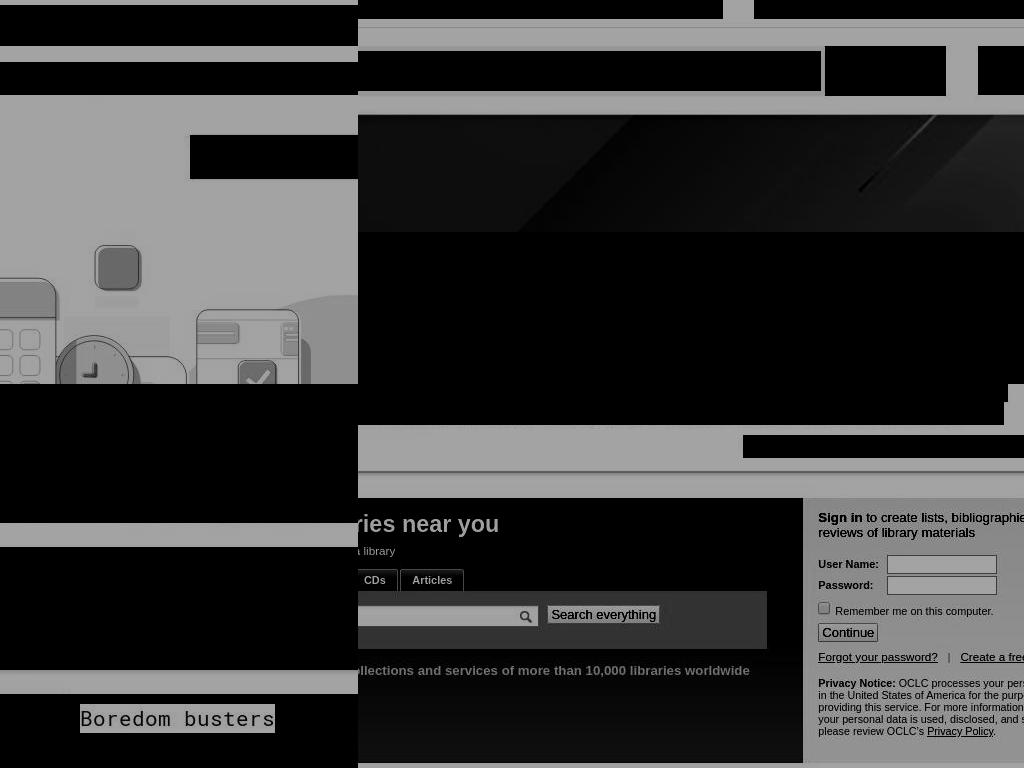button: (0, 694, 358, 768), (190, 135, 358, 179), (825, 46, 946, 96), (978, 46, 1024, 95), (913, 0, 1024, 19), (754, 0, 844, 19), (400, 570, 465, 591), (843, 0, 914, 19), (358, 570, 398, 591)
field: (358, 51, 821, 91), (358, 604, 540, 627), (547, 604, 661, 624), (887, 555, 998, 574), (887, 576, 998, 595), (818, 623, 879, 642), (818, 602, 832, 615)
heading: (358, 232, 1024, 384), (0, 5, 358, 46), (358, 508, 768, 539), (0, 62, 358, 95), (0, 573, 322, 603), (358, 662, 750, 678), (80, 704, 275, 733), (358, 543, 396, 557)
image: (358, 385, 1024, 536), (0, 219, 358, 384), (0, 384, 358, 523), (903, 384, 1004, 472), (485, 384, 576, 472)
label: (835, 605, 994, 617), (818, 558, 880, 570), (818, 579, 874, 591)
link: (358, 384, 1008, 402), (80, 743, 358, 768), (818, 650, 938, 663), (401, 569, 464, 590), (358, 410, 436, 425), (960, 650, 1024, 663), (358, 569, 397, 590), (927, 725, 994, 737), (778, 387, 815, 402)
text: (358, 387, 1004, 425), (818, 677, 1024, 737), (435, 410, 959, 425), (358, 0, 723, 19), (743, 435, 1024, 458), (358, 387, 779, 402), (818, 510, 1024, 540), (210, 145, 358, 169), (818, 677, 896, 689), (764, 0, 834, 11), (818, 510, 863, 525), (937, 650, 961, 663), (993, 725, 997, 737)
